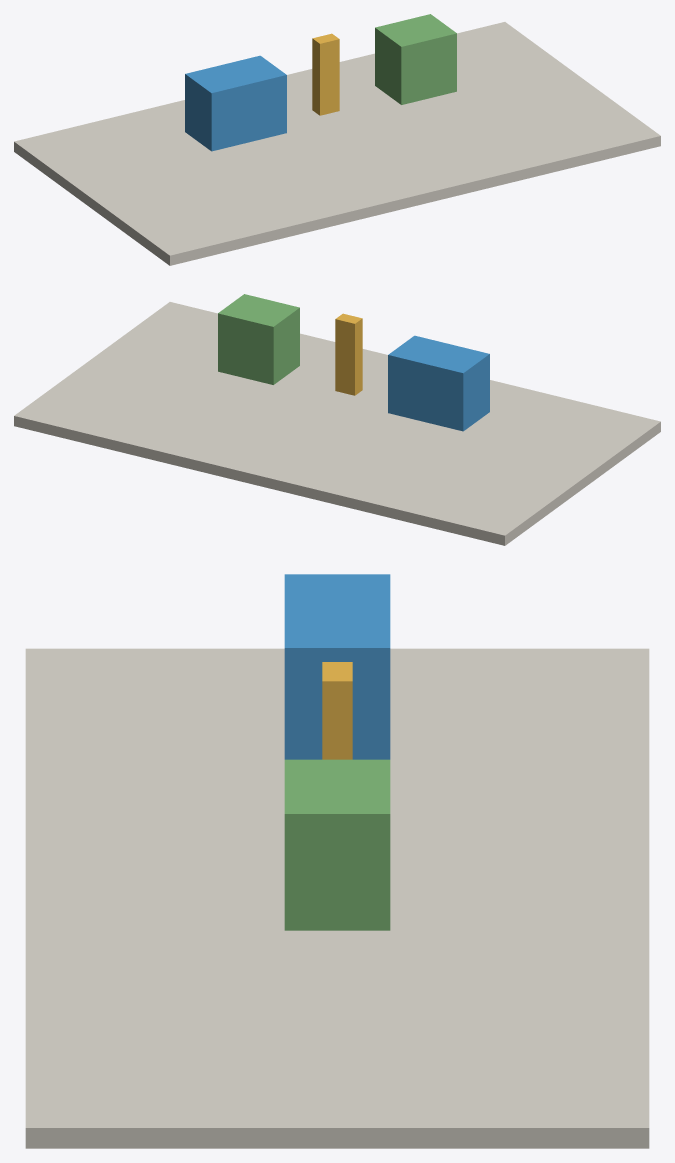
The model's file is math-advanced-expression.glb.
3 renders of one model, top to bottom at view 1: azimuth 30°, elevation 25°; view 2: azimuth 150°, elevation 25°; view 3: azimuth 270°, elevation 25°, orthographic. The views are drawn at different scales.
Parts seen in each view (by area): view 1: advanced-math-base, term-3x-block, constant-5-block, plus-operator; view 2: advanced-math-base, term-3x-block, constant-5-block, plus-operator; view 3: advanced-math-base, constant-5-block, term-3x-block, plus-operator.
Boxes of the visible parts, x1=… form: advanced-math-base: x1=14, y1=22, x2=660, y2=265; term-3x-block: x1=185, y1=55, x2=286, y2=151; constant-5-block: x1=375, y1=14, x2=456, y2=104; plus-operator: x1=312, y1=33, x2=339, y2=115; advanced-math-base: x1=14, y1=302, x2=660, y2=545; term-3x-block: x1=388, y1=335, x2=489, y2=431; constant-5-block: x1=218, y1=294, x2=299, y2=384; plus-operator: x1=335, y1=313, x2=362, y2=395; advanced-math-base: x1=25, y1=648, x2=649, y2=1148; constant-5-block: x1=284, y1=759, x2=390, y2=930; term-3x-block: x1=284, y1=574, x2=390, y2=759; plus-operator: x1=322, y1=662, x2=352, y2=759.
Size of what is drawn, in the model's own units: 3 by 0.66 by 1.65.
